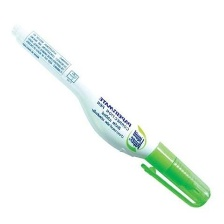correction_fluid: (9, 21, 212, 210)
